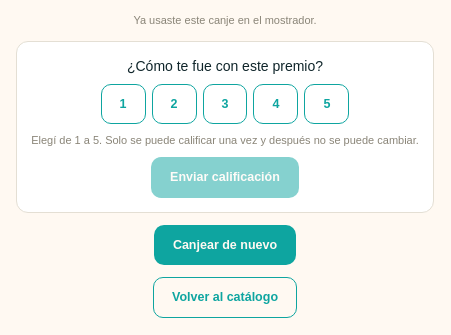
it: RedeemPage rating › sends the chosen rating for a Redeemed redemption and then goes read-only
Step 1. Click the button named "4 de 5" → point(276, 104), box [254,84,298,124]
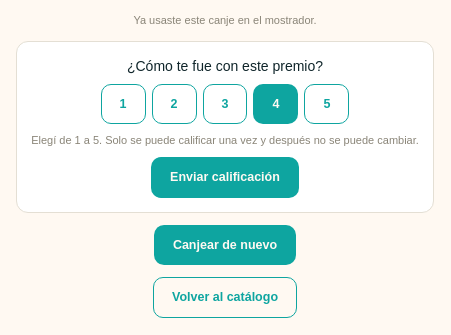
Step 2. Click the button "Enviar calificación" → point(225, 177), box [151,157,299,198]
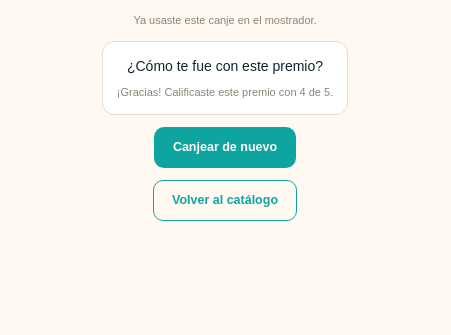
Expected: the text "¡Gracias! Calificaste este premio con 4 de 5." is shown, [117,84,333,100]
Expected: the button "Enviar calificación" is gone
